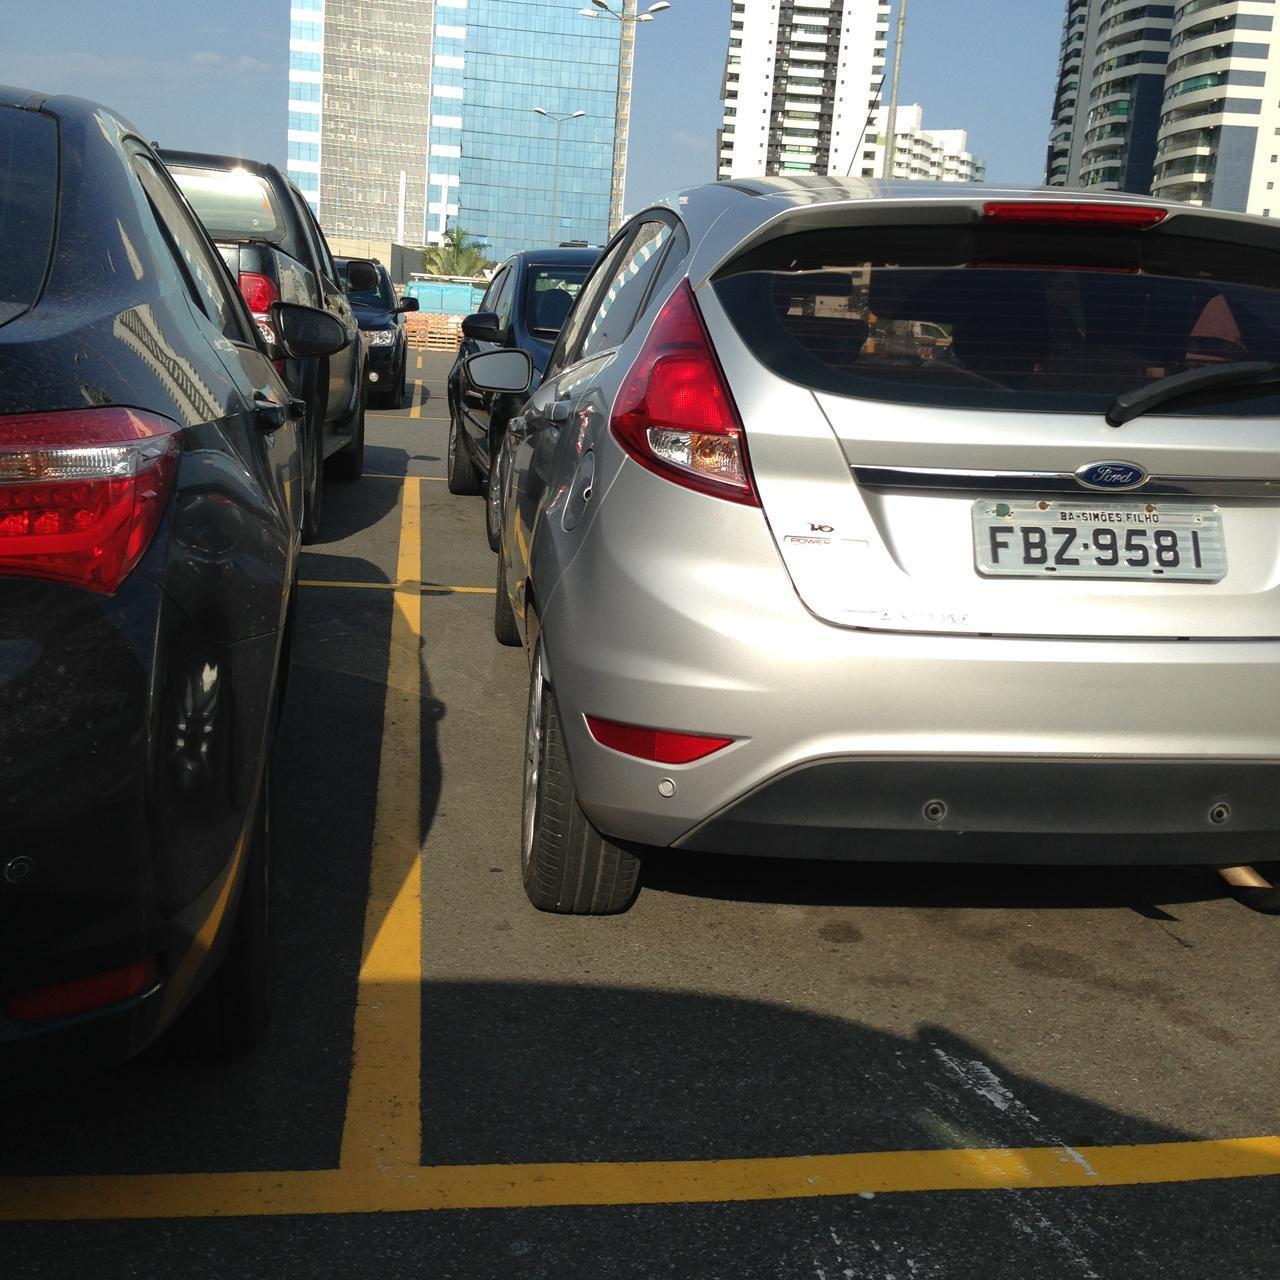placa de veiculo: (968, 474, 1240, 603)
